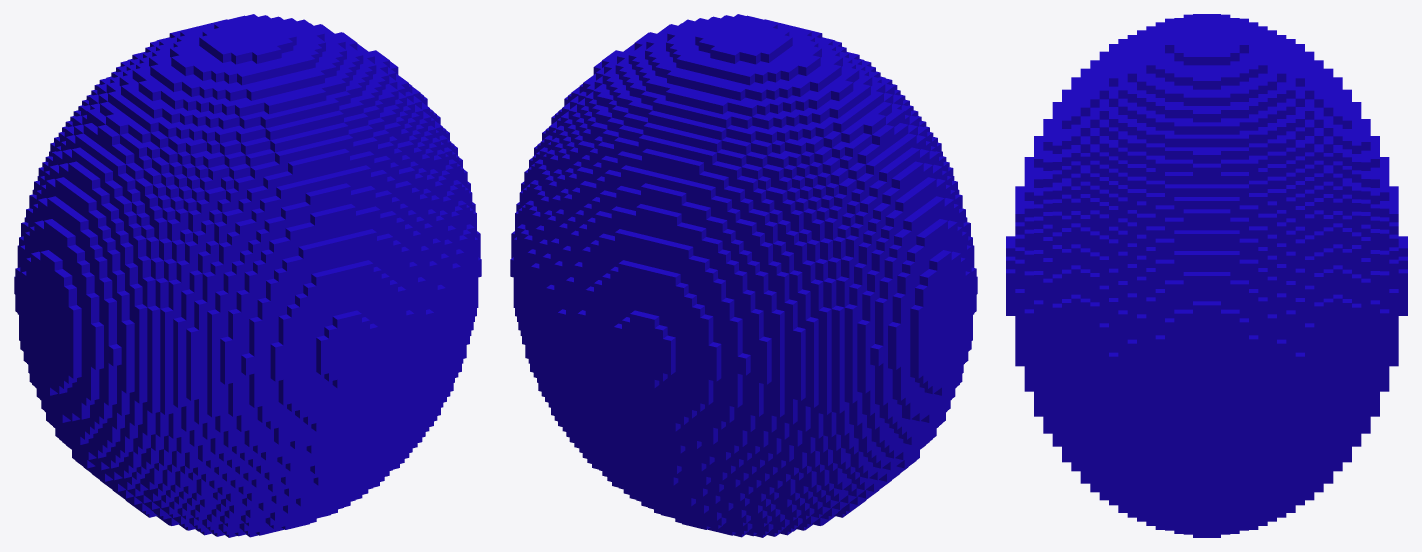
File: simple_obj_label2.obj
The picture shows the model from 3 angles, left to right: view 1: azimuth 30°, elevation 25°; view 2: azimuth 150°, elevation 25°; view 3: azimuth 270°, elevation 25°; orthographic projection.
Size of the model in its own units: 49 by 56 by 43.
